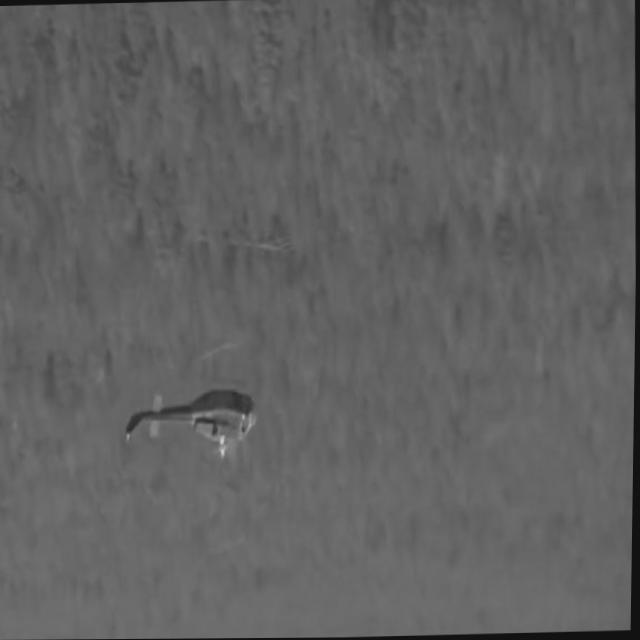helikopter: (107, 346, 284, 490)
